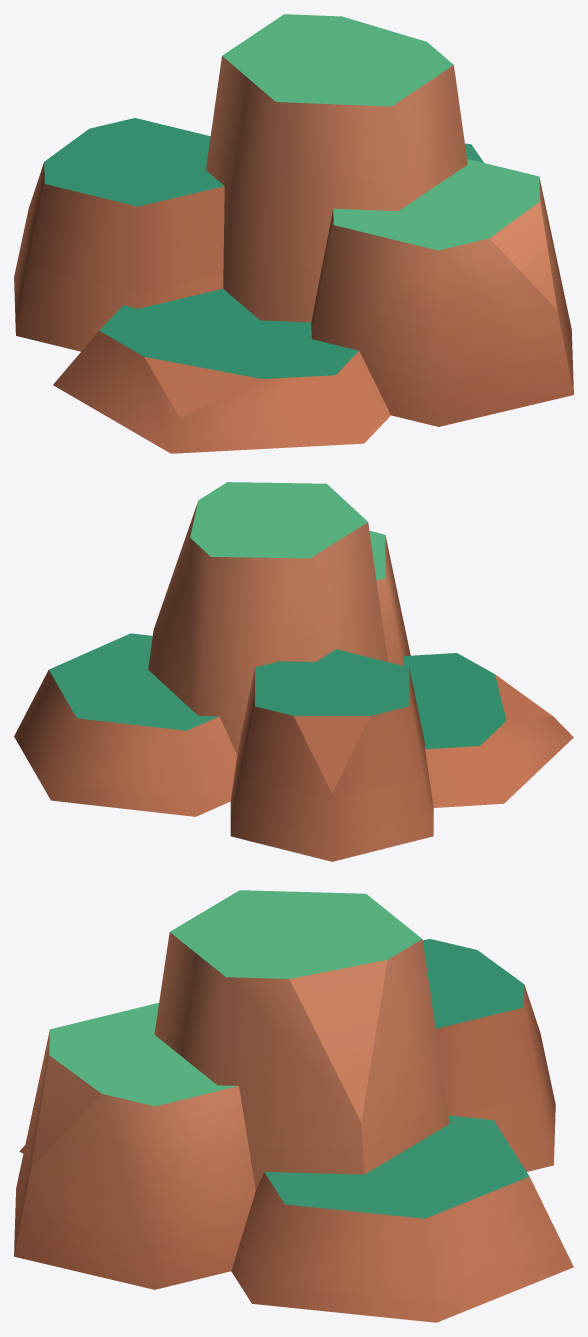
The model's file is detail-dirt-large.glb.
3 views of the same model, one above another, from view 1: azimuth 30°, elevation 25°; view 2: azimuth 150°, elevation 25°; view 3: azimuth 270°, elevation 25° (orthographic). The views are drawn at different scales.
Visible parts, largest first — view 1: detail-dirt-large; view 2: detail-dirt-large; view 3: detail-dirt-large.
Boxes of the visible parts, x1,y1,x2,y2 form: detail-dirt-large: [14, 14, 573, 453]; detail-dirt-large: [14, 482, 573, 861]; detail-dirt-large: [14, 890, 573, 1322].
Size of the model in its own units: 0.8531 by 0.4145 by 0.7785.
1 material, 1 textured.
